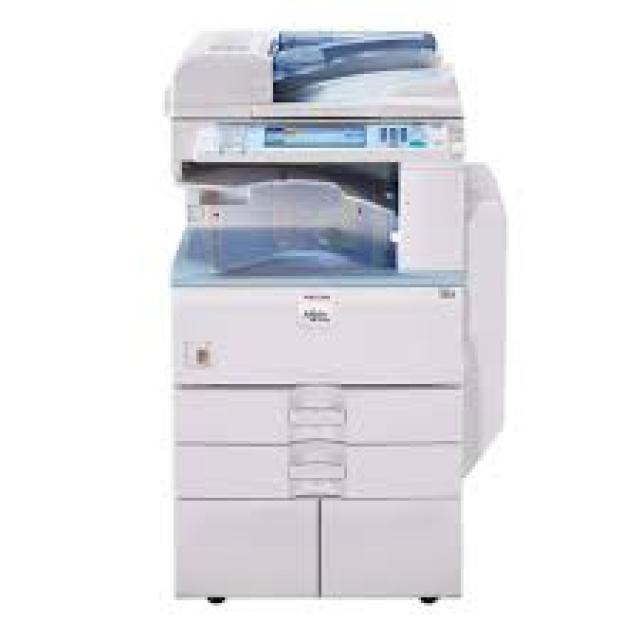printer: (162, 26, 506, 603)
